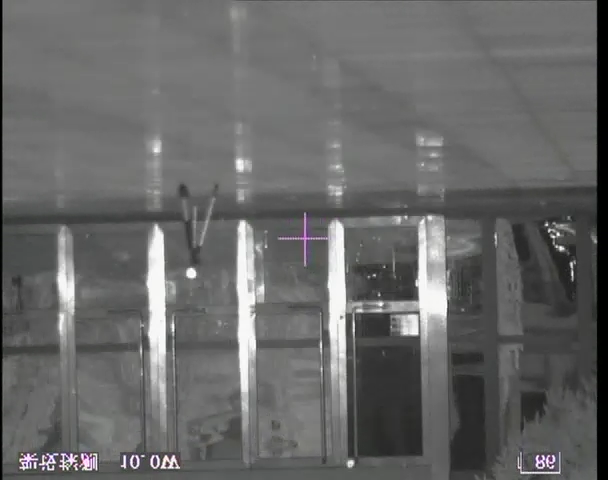my: (184, 266, 197, 280)
